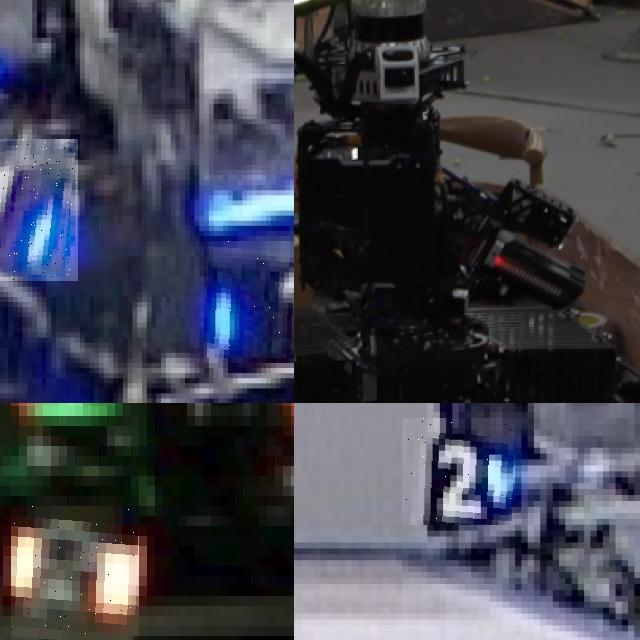B1: (0, 139, 77, 281), (206, 241, 294, 358)
B2: (402, 418, 515, 525)
Rs: (11, 506, 139, 640)
